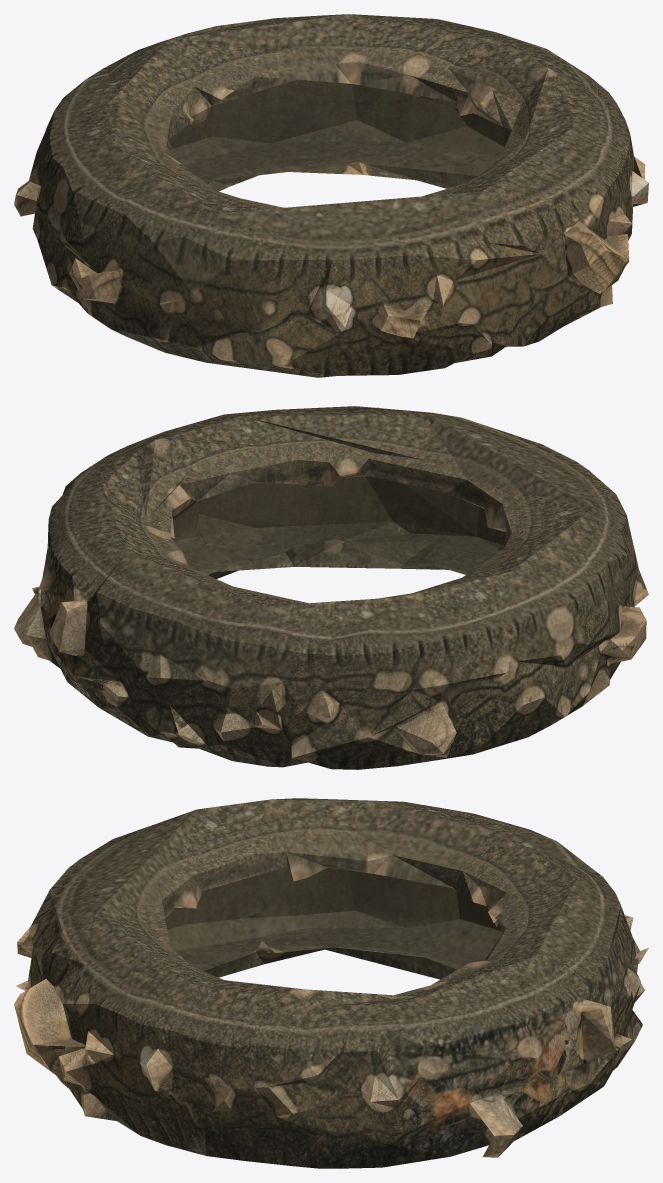
The model's file is Llanta.fbx.
The picture shows the model from 3 angles, top to bottom: view 1: azimuth 30°, elevation 25°; view 2: azimuth 150°, elevation 25°; view 3: azimuth 270°, elevation 25°; orthographic projection. The views are drawn at different scales.
Visible parts, largest first — view 1: Llanta; view 2: Llanta; view 3: Llanta.
Boxes of the visible parts, left/top/right/bottom form: Llanta: left=14, top=14, right=648, bottom=377; Llanta: left=14, top=406, right=648, bottom=769; Llanta: left=14, top=798, right=648, bottom=1168.
Bounding box in the file's own units: 0.9 × 0.2571 × 0.8907.
Materials: 1 (1 with a texture image).
